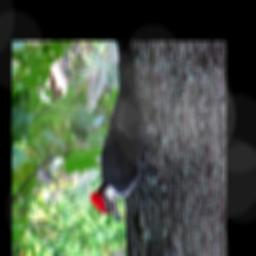Woodpecker: (88, 41, 157, 224)
